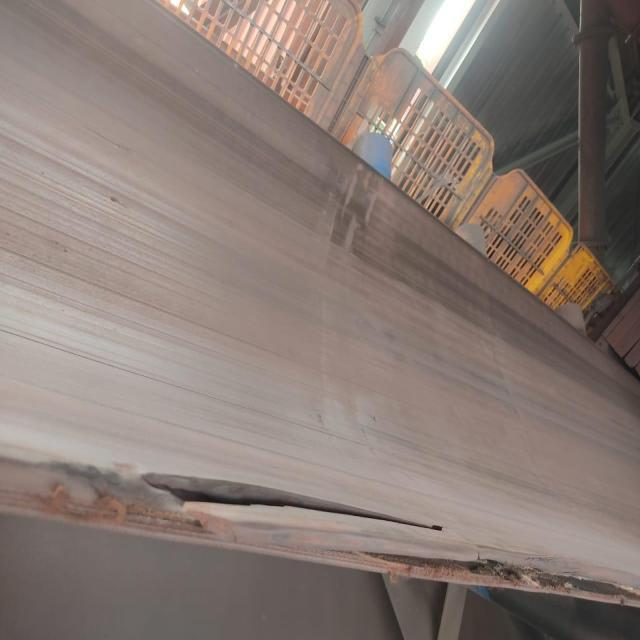Tear: (132, 460, 448, 534)
